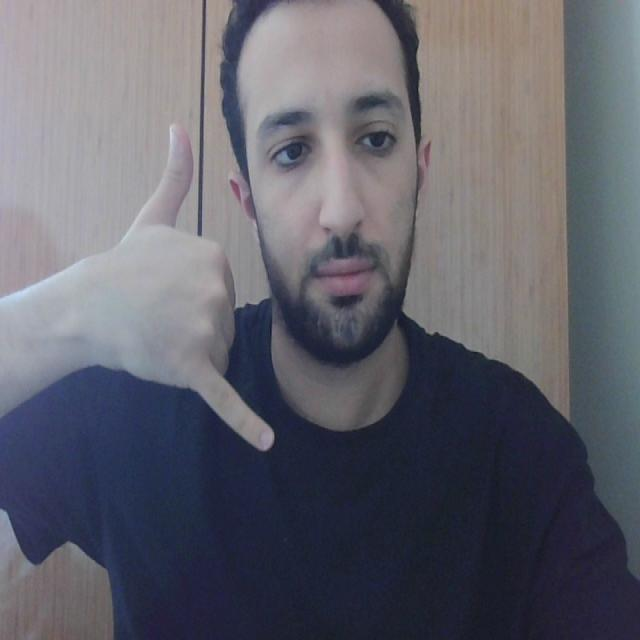Telefon: (142, 122, 287, 452)
